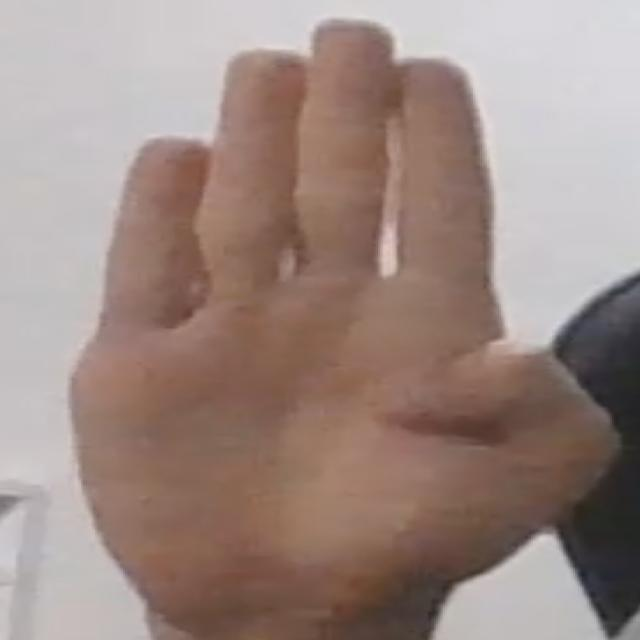B: (59, 10, 630, 632)
